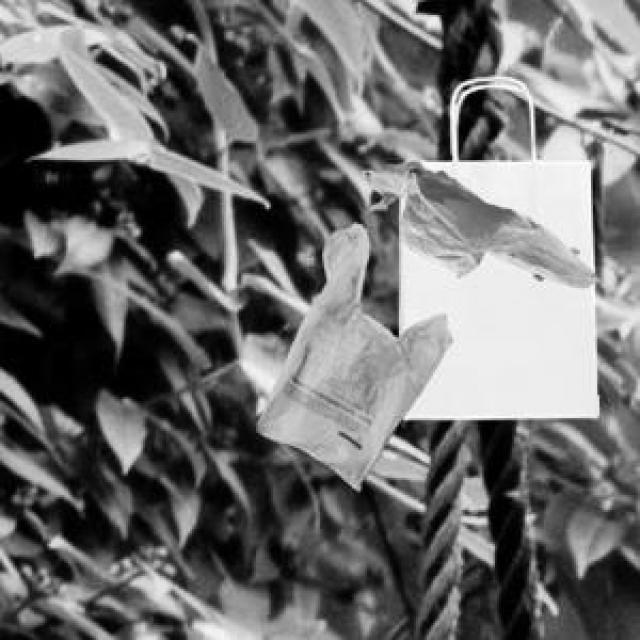paper: (395, 73, 595, 416)
